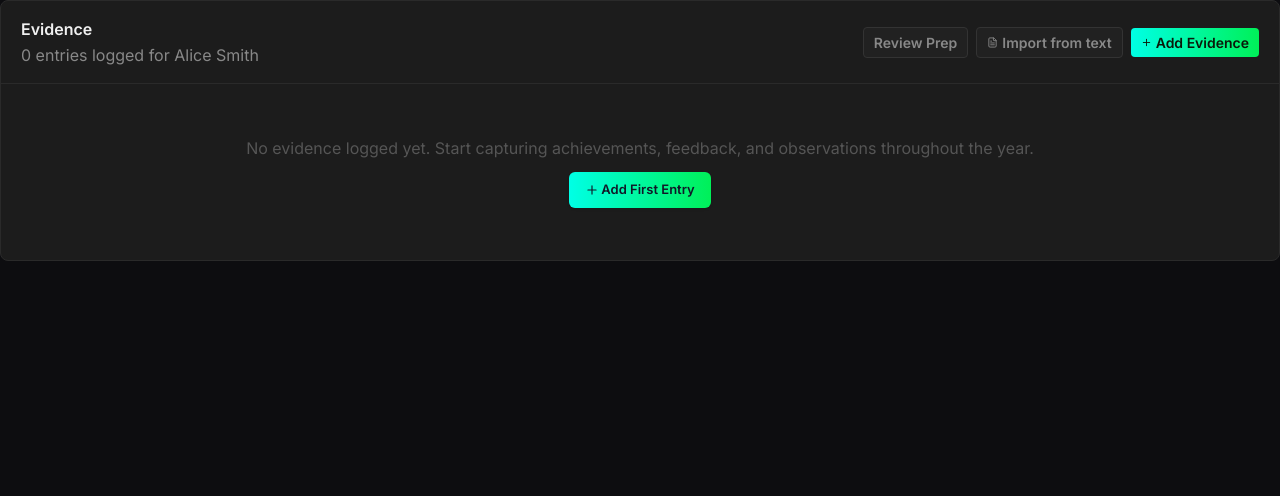
EvidenceSection › should show add evidence form when button clicked
Click the button "Add Evidence". click: coordinates (1195, 42)
box: [1131, 28, 1259, 56]
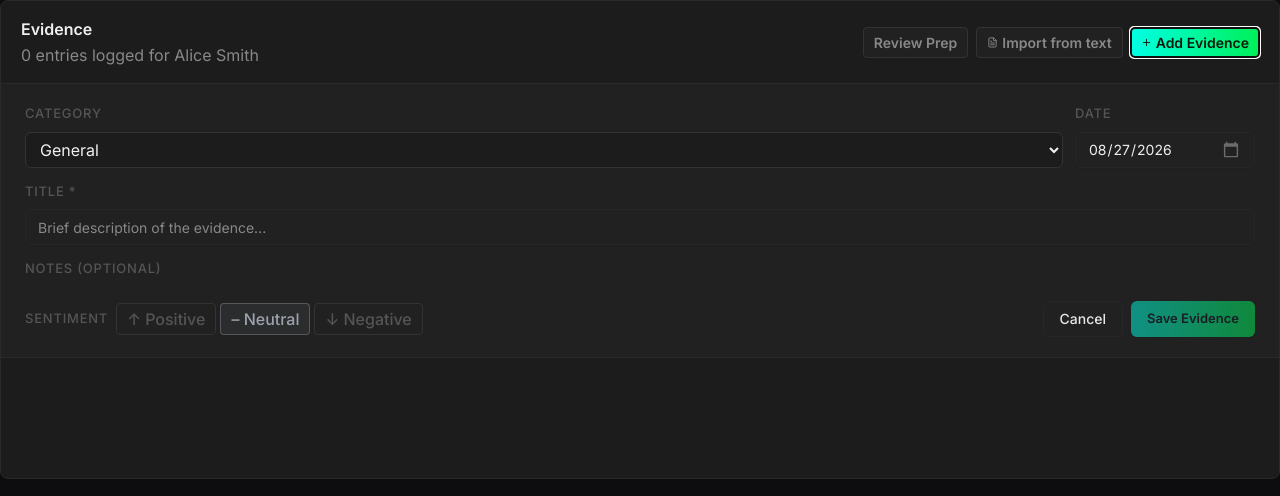
Check: the field with placeholder "Brief description of the evidence..." is shown, box [25, 209, 1255, 245]
